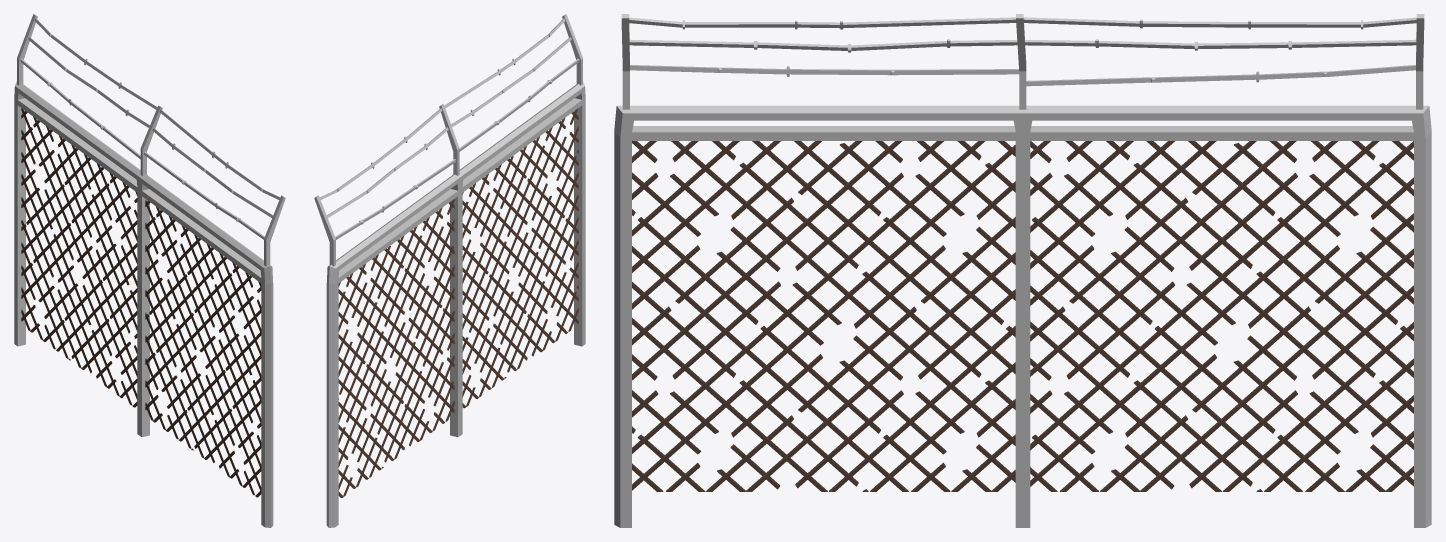
The model's file is SM_Prop_Fence_01.fbx.
3 views of the same model, side by side, from view 1: azimuth 30°, elevation 25°; view 2: azimuth 150°, elevation 25°; view 3: azimuth 270°, elevation 25° (orthographic). The views are drawn at different scales.
Parts seen in each view (by area): view 1: SM_Prop_Fence_01; view 2: SM_Prop_Fence_01; view 3: SM_Prop_Fence_01.
Boxes of the visible parts, bbox=[...] form: SM_Prop_Fence_01: bbox=[14, 14, 285, 527]; SM_Prop_Fence_01: bbox=[314, 14, 585, 527]; SM_Prop_Fence_01: bbox=[614, 14, 1431, 527].
Size of the model in its own units: 18.87 by 278 by 394.
